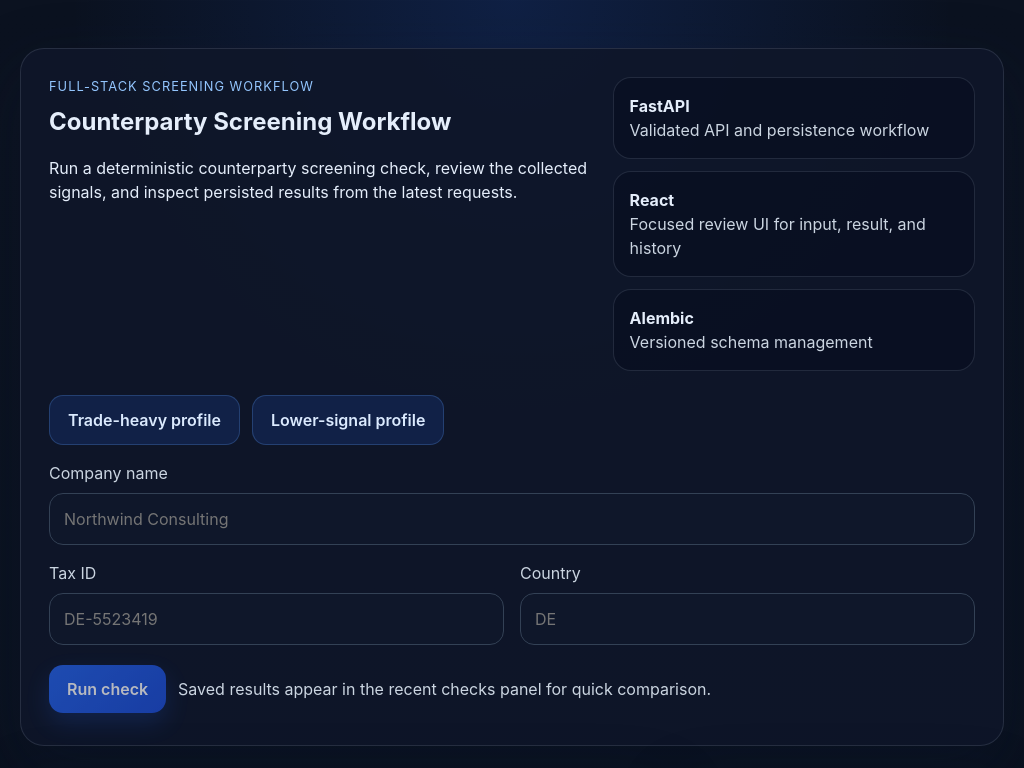
Test: App › submits a screening request and renders the returned result
The image size is (1024, 768).
Type "  Northwind Supply BV  " into the field labelled "Company name". click: x=512, y=519
box: [49,493,975,545]
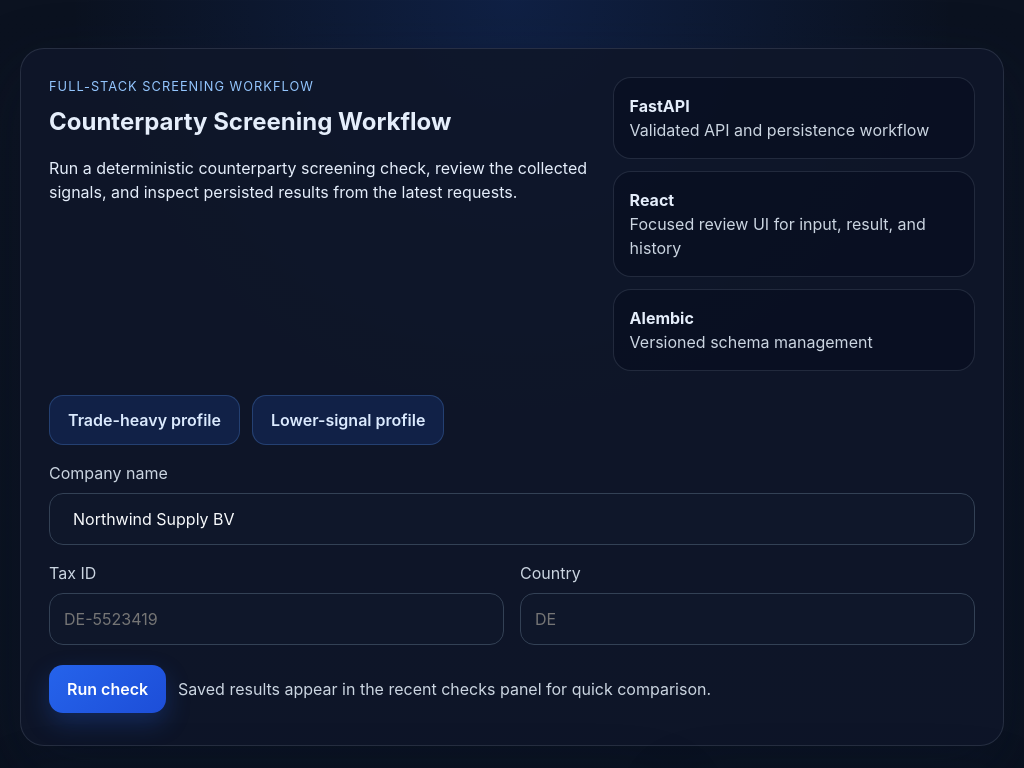
Type " nl12345678b01 " into the field labelled "Tax ID". click: x=276, y=619
box: [49,593,504,645]
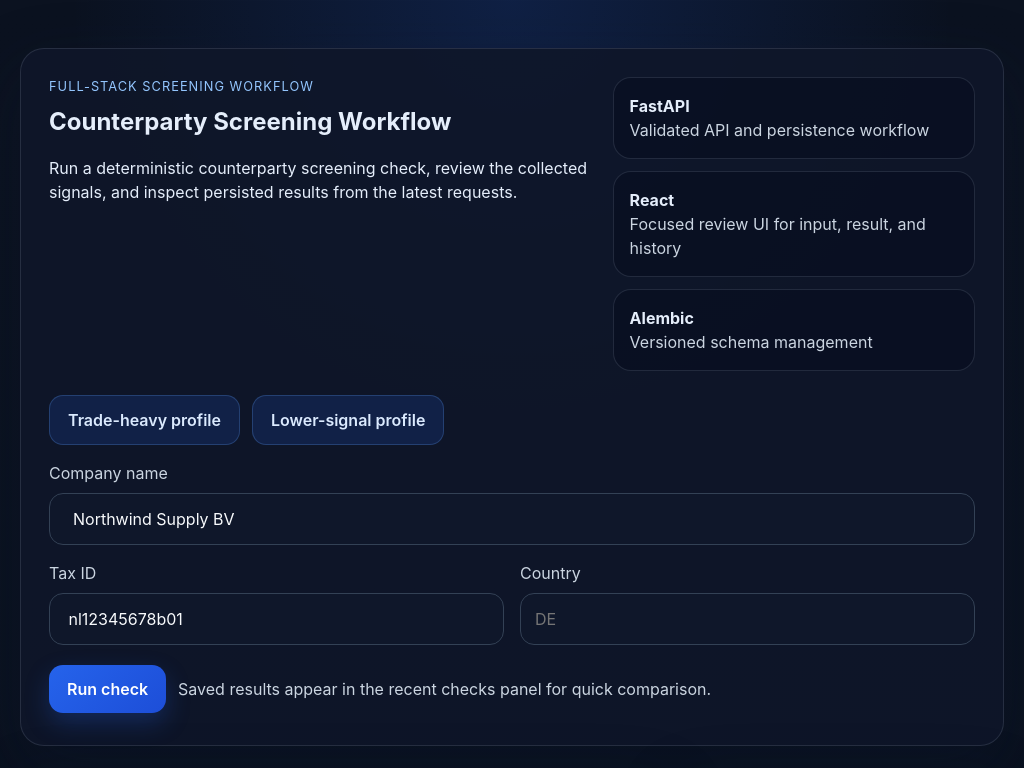
Type "nl" into the field labelled "Country". click: x=748, y=619
box: [520,593,975,645]
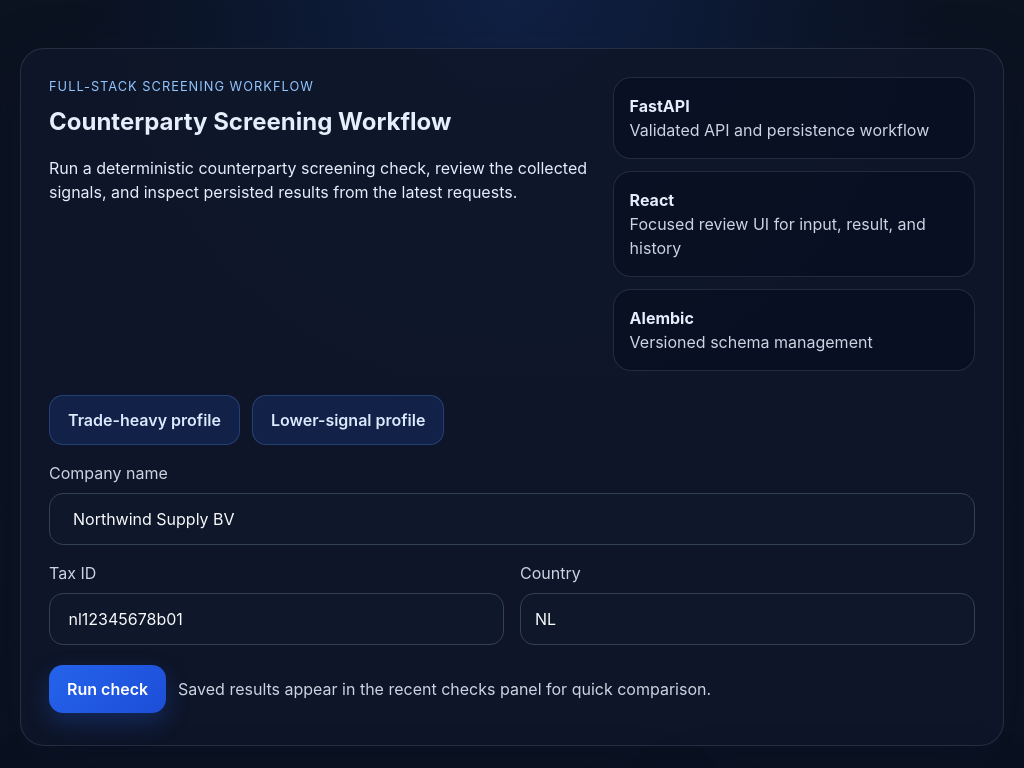
Click the button "Run check". click: x=108, y=689
box: [49,665,166,713]
(page scrolled)
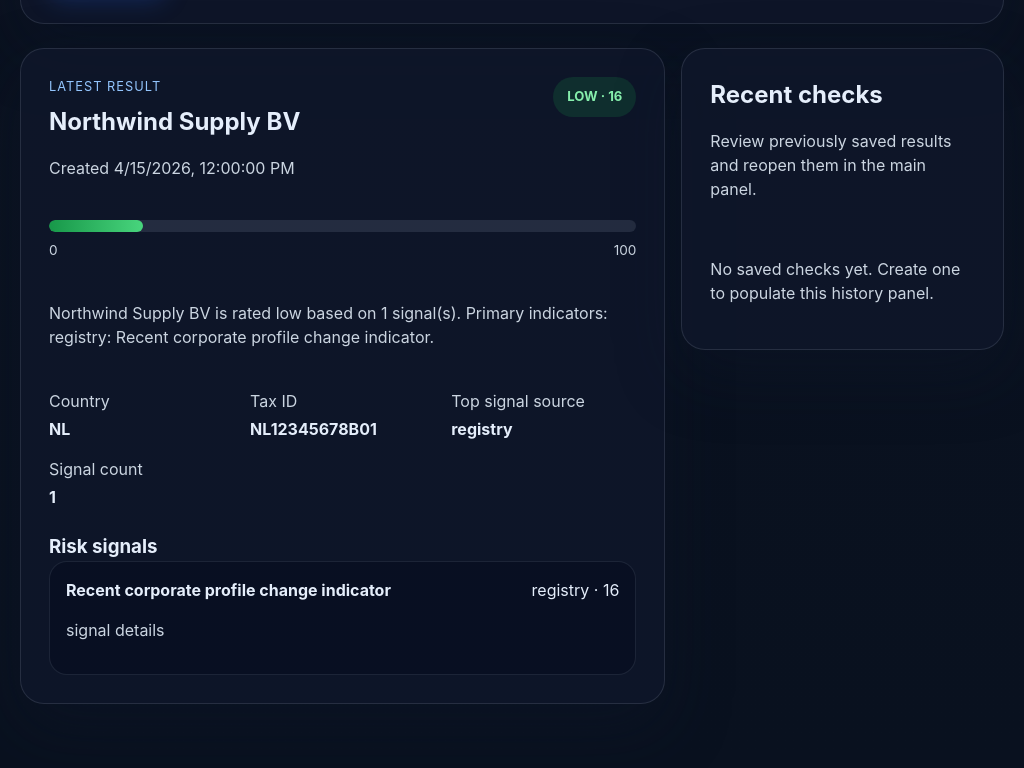
expect the heading "Northwind Supply BV" is shown: met, box [49,104,300,140]
expect the text "Primary indicators:" is shown: met, box [49,303,608,347]
expect the text "LOW · 16" is shown: met, box [553,77,636,117]
